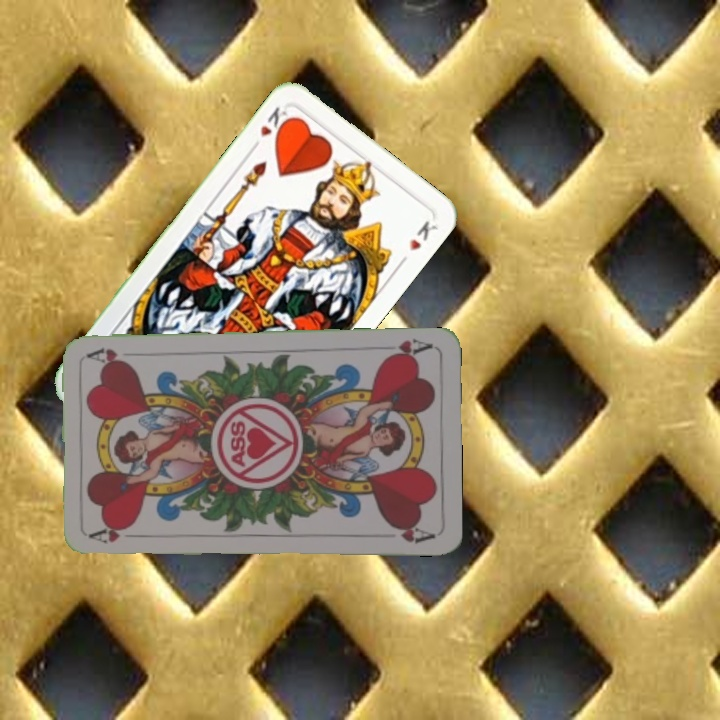HA: (379, 335, 435, 362), (87, 522, 146, 545)
HK: (256, 102, 295, 142)
